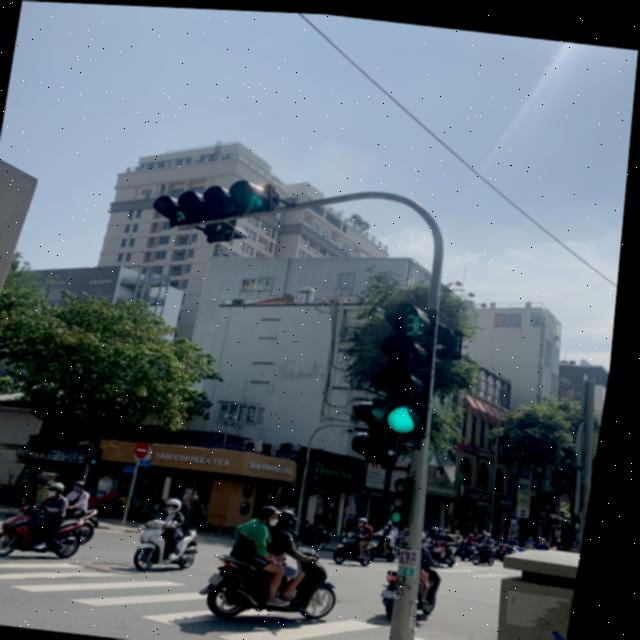Green: (359, 326, 461, 437), (172, 166, 293, 226)
